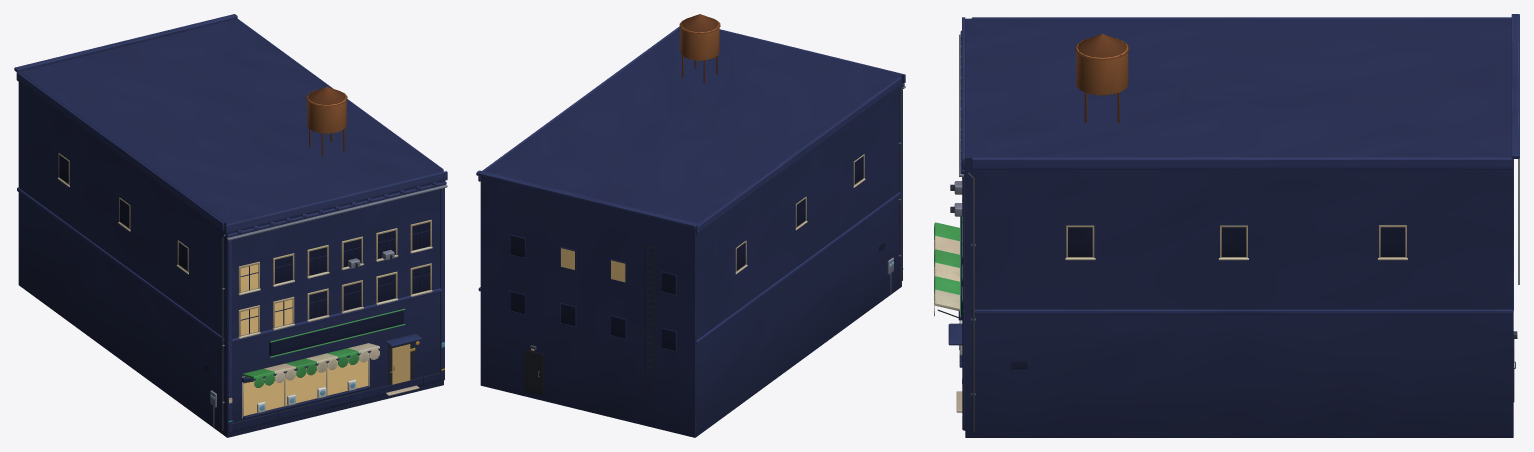
File: SM_City_Bld_Laundromat.fbx
3 views of the same model, side by side, from view 1: azimuth 30°, elevation 25°; view 2: azimuth 150°, elevation 25°; view 3: azimuth 270°, elevation 25° (orthographic). The views are drawn at different scales.
Visible parts, largest first — view 1: SM_City_Bld_Laundromat; view 2: SM_City_Bld_Laundromat; view 3: SM_City_Bld_Laundromat.
Part boxes in pixels (x1,y1,x2,y2): SM_City_Bld_Laundromat: [14, 14, 447, 437]; SM_City_Bld_Laundromat: [476, 14, 905, 437]; SM_City_Bld_Laundromat: [934, 14, 1519, 437].
Bounding box in the file's own units: 1227 × 1460 × 2137.
